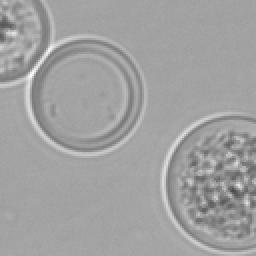picoshell: (24, 34, 146, 156), (162, 112, 254, 254)
